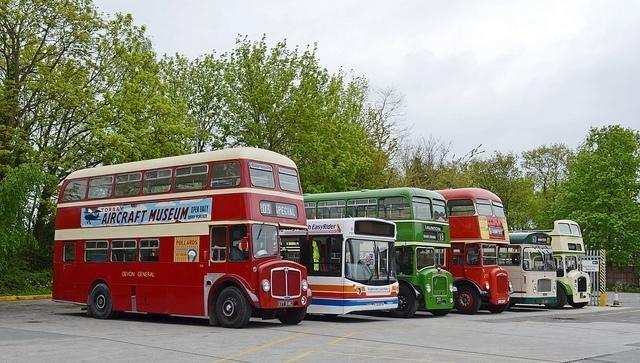bus: (52, 146, 312, 329), (307, 190, 457, 316), (432, 190, 512, 314), (308, 217, 400, 318), (498, 233, 558, 305), (544, 218, 590, 309)
